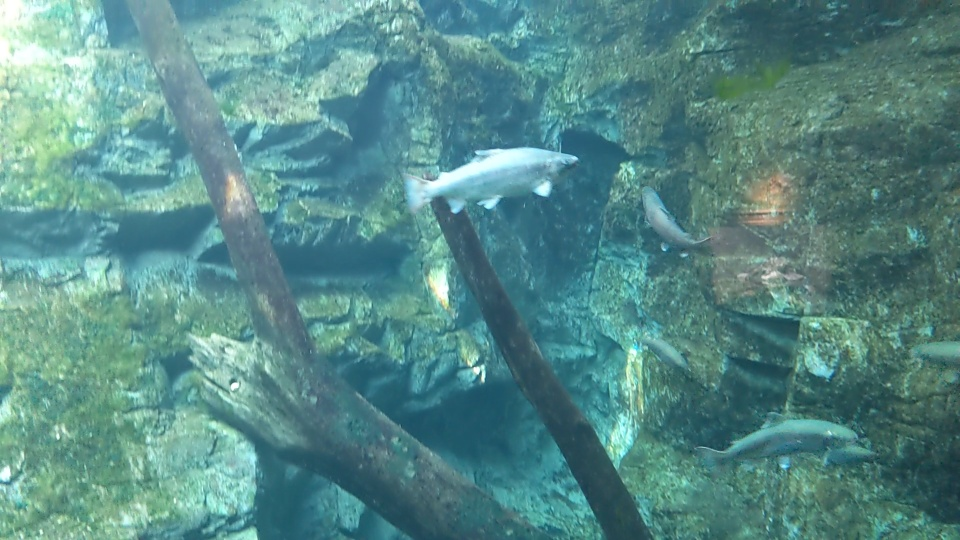Fish: (406, 141, 575, 215), (697, 411, 856, 471), (642, 181, 694, 254), (639, 331, 693, 379), (913, 330, 960, 379), (824, 444, 884, 469)
